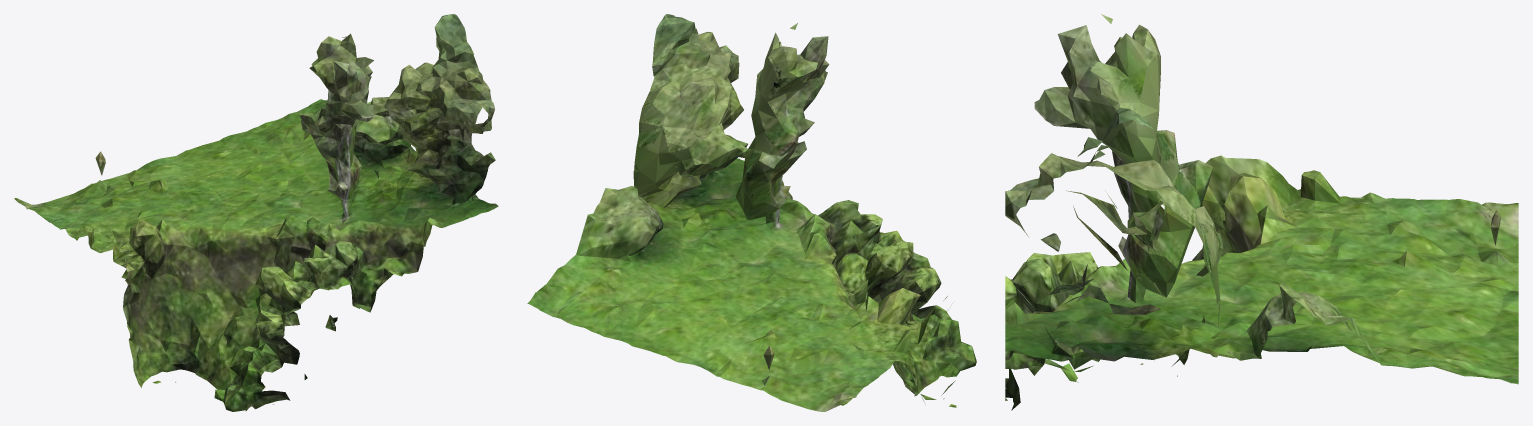
3 renders of one model, left to right at view 1: azimuth 30°, elevation 25°; view 2: azimuth 150°, elevation 25°; view 3: azimuth 270°, elevation 25°, orthographic. The views are drawn at different scales.
Bounding box in the file's own units: 26.11 × 25.84 × 26.11.
5 materials, 5 textured.
